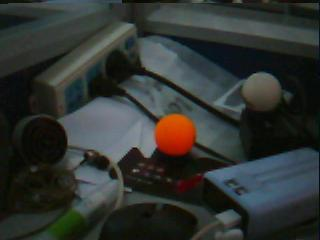oball: (155, 114, 197, 154)
